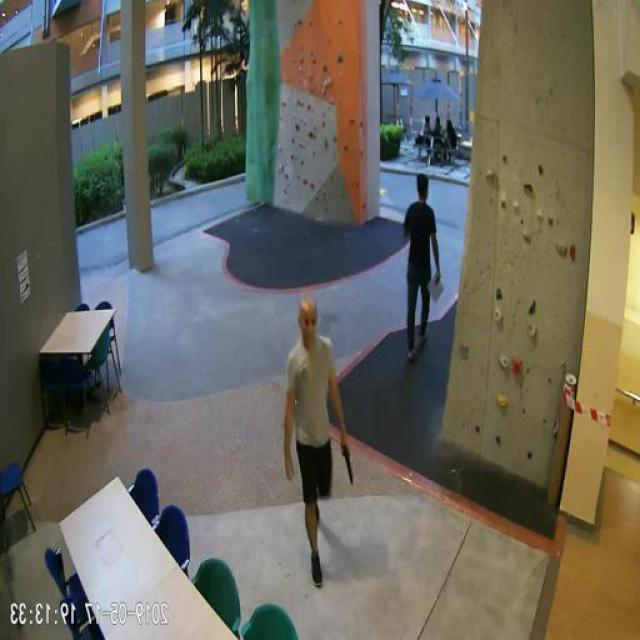weapon: (339, 443, 355, 484)
